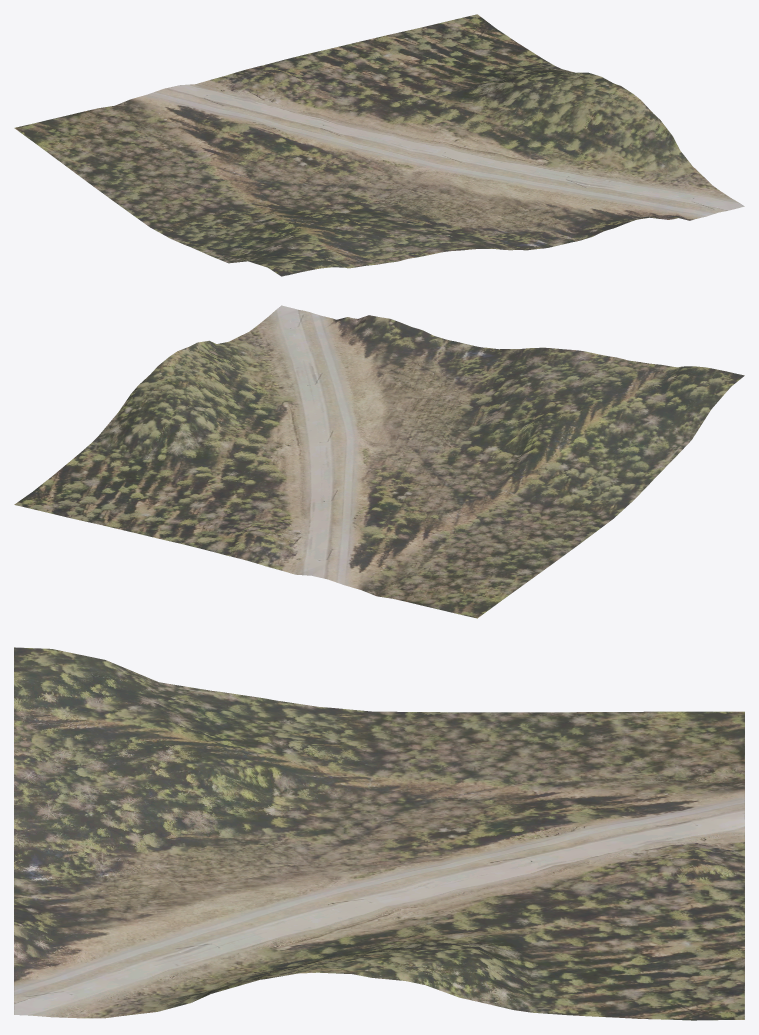
File: CM_Terrain_24493121_6815288.fbx
3 views of the same model, one above another, from view 1: azimuth 30°, elevation 25°; view 2: azimuth 150°, elevation 25°; view 3: azimuth 270°, elevation 25° (orthographic). The views are drawn at different scales.
Parts seen in each view (by area): view 1: CM_Terrain_24493121_6815288_LOD0; view 2: CM_Terrain_24493121_6815288_LOD0; view 3: CM_Terrain_24493121_6815288_LOD0.
Part boxes in pixels (x1=…): CM_Terrain_24493121_6815288_LOD0: x1=14, y1=14, x2=744, y2=276; CM_Terrain_24493121_6815288_LOD0: x1=14, y1=305, x2=744, y2=618; CM_Terrain_24493121_6815288_LOD0: x1=14, y1=647, x2=744, y2=1020.
Size of what is drawn, in the model's own units: 205 by 20.97 by 205.
